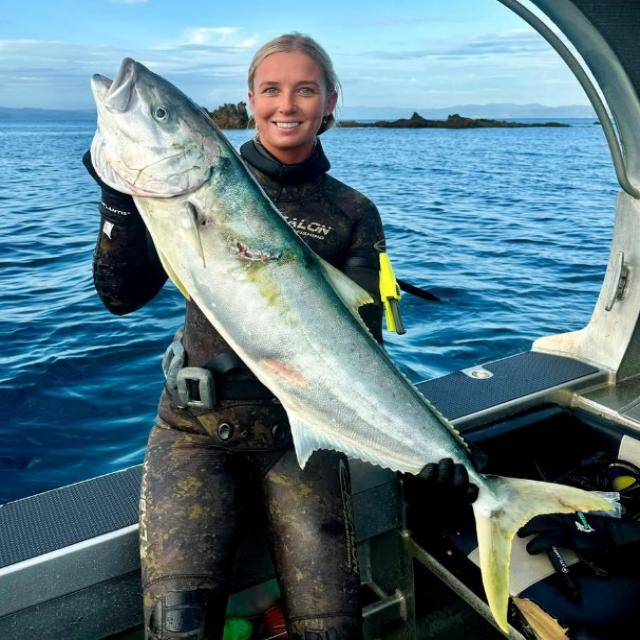Kingfish: (81, 49, 618, 632)
